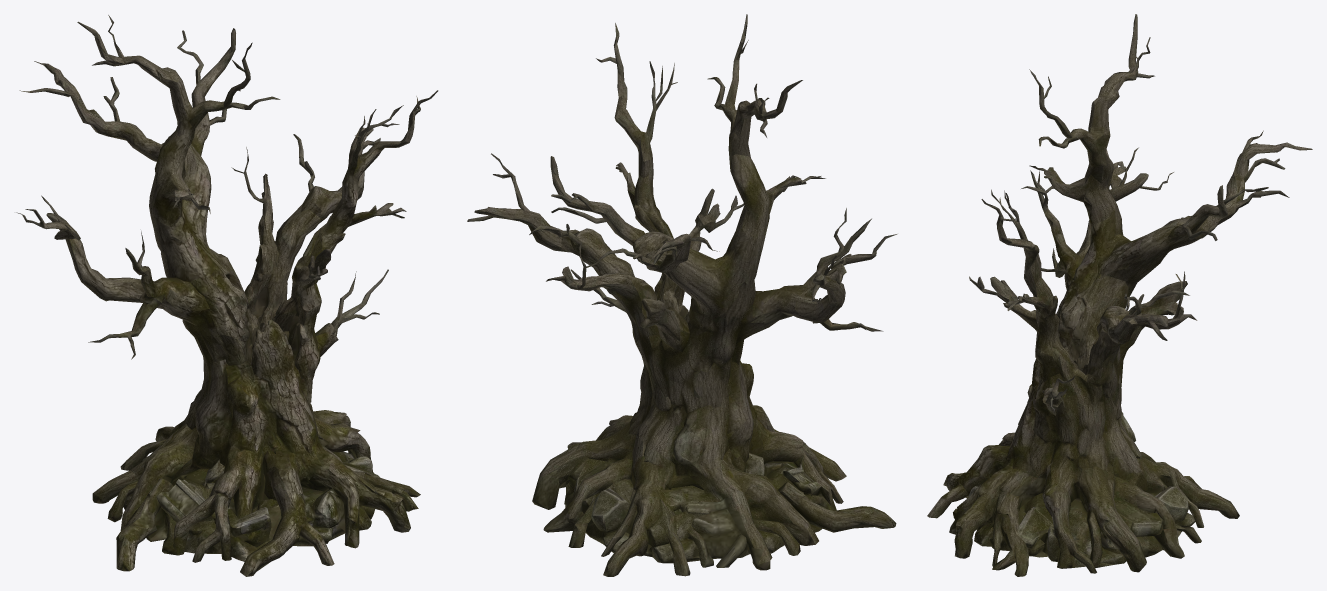
3 renders of one model, left to right at view 1: azimuth 30°, elevation 25°; view 2: azimuth 150°, elevation 25°; view 3: azimuth 270°, elevation 25°, orthographic. The views are drawn at different scales.
Visible parts, largest first — view 1: mesh_node; view 2: mesh_node; view 3: mesh_node.
Part boxes in pixels (<box>): mesh_node: <box>16,15,438,576</box>; mesh_node: <box>467,14,897,576</box>; mesh_node: <box>927,14,1312,576</box>.
Size of the model in its own units: 1.6 by 1.9 by 1.5.
Materials: 1 (1 with a texture image).
